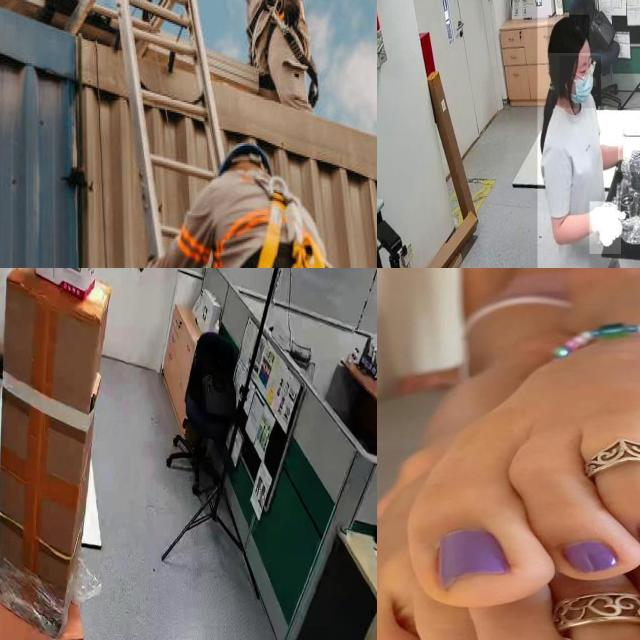Barefoots: (410, 275, 640, 610), (377, 451, 640, 640)
Harness: (208, 174, 346, 268), (234, 0, 320, 90)
face_mask: (559, 56, 601, 108)
hand_glove: (590, 201, 622, 255), (617, 141, 640, 172)
head_nohelmet: (548, 15, 590, 54)
person: (537, 0, 640, 268)
